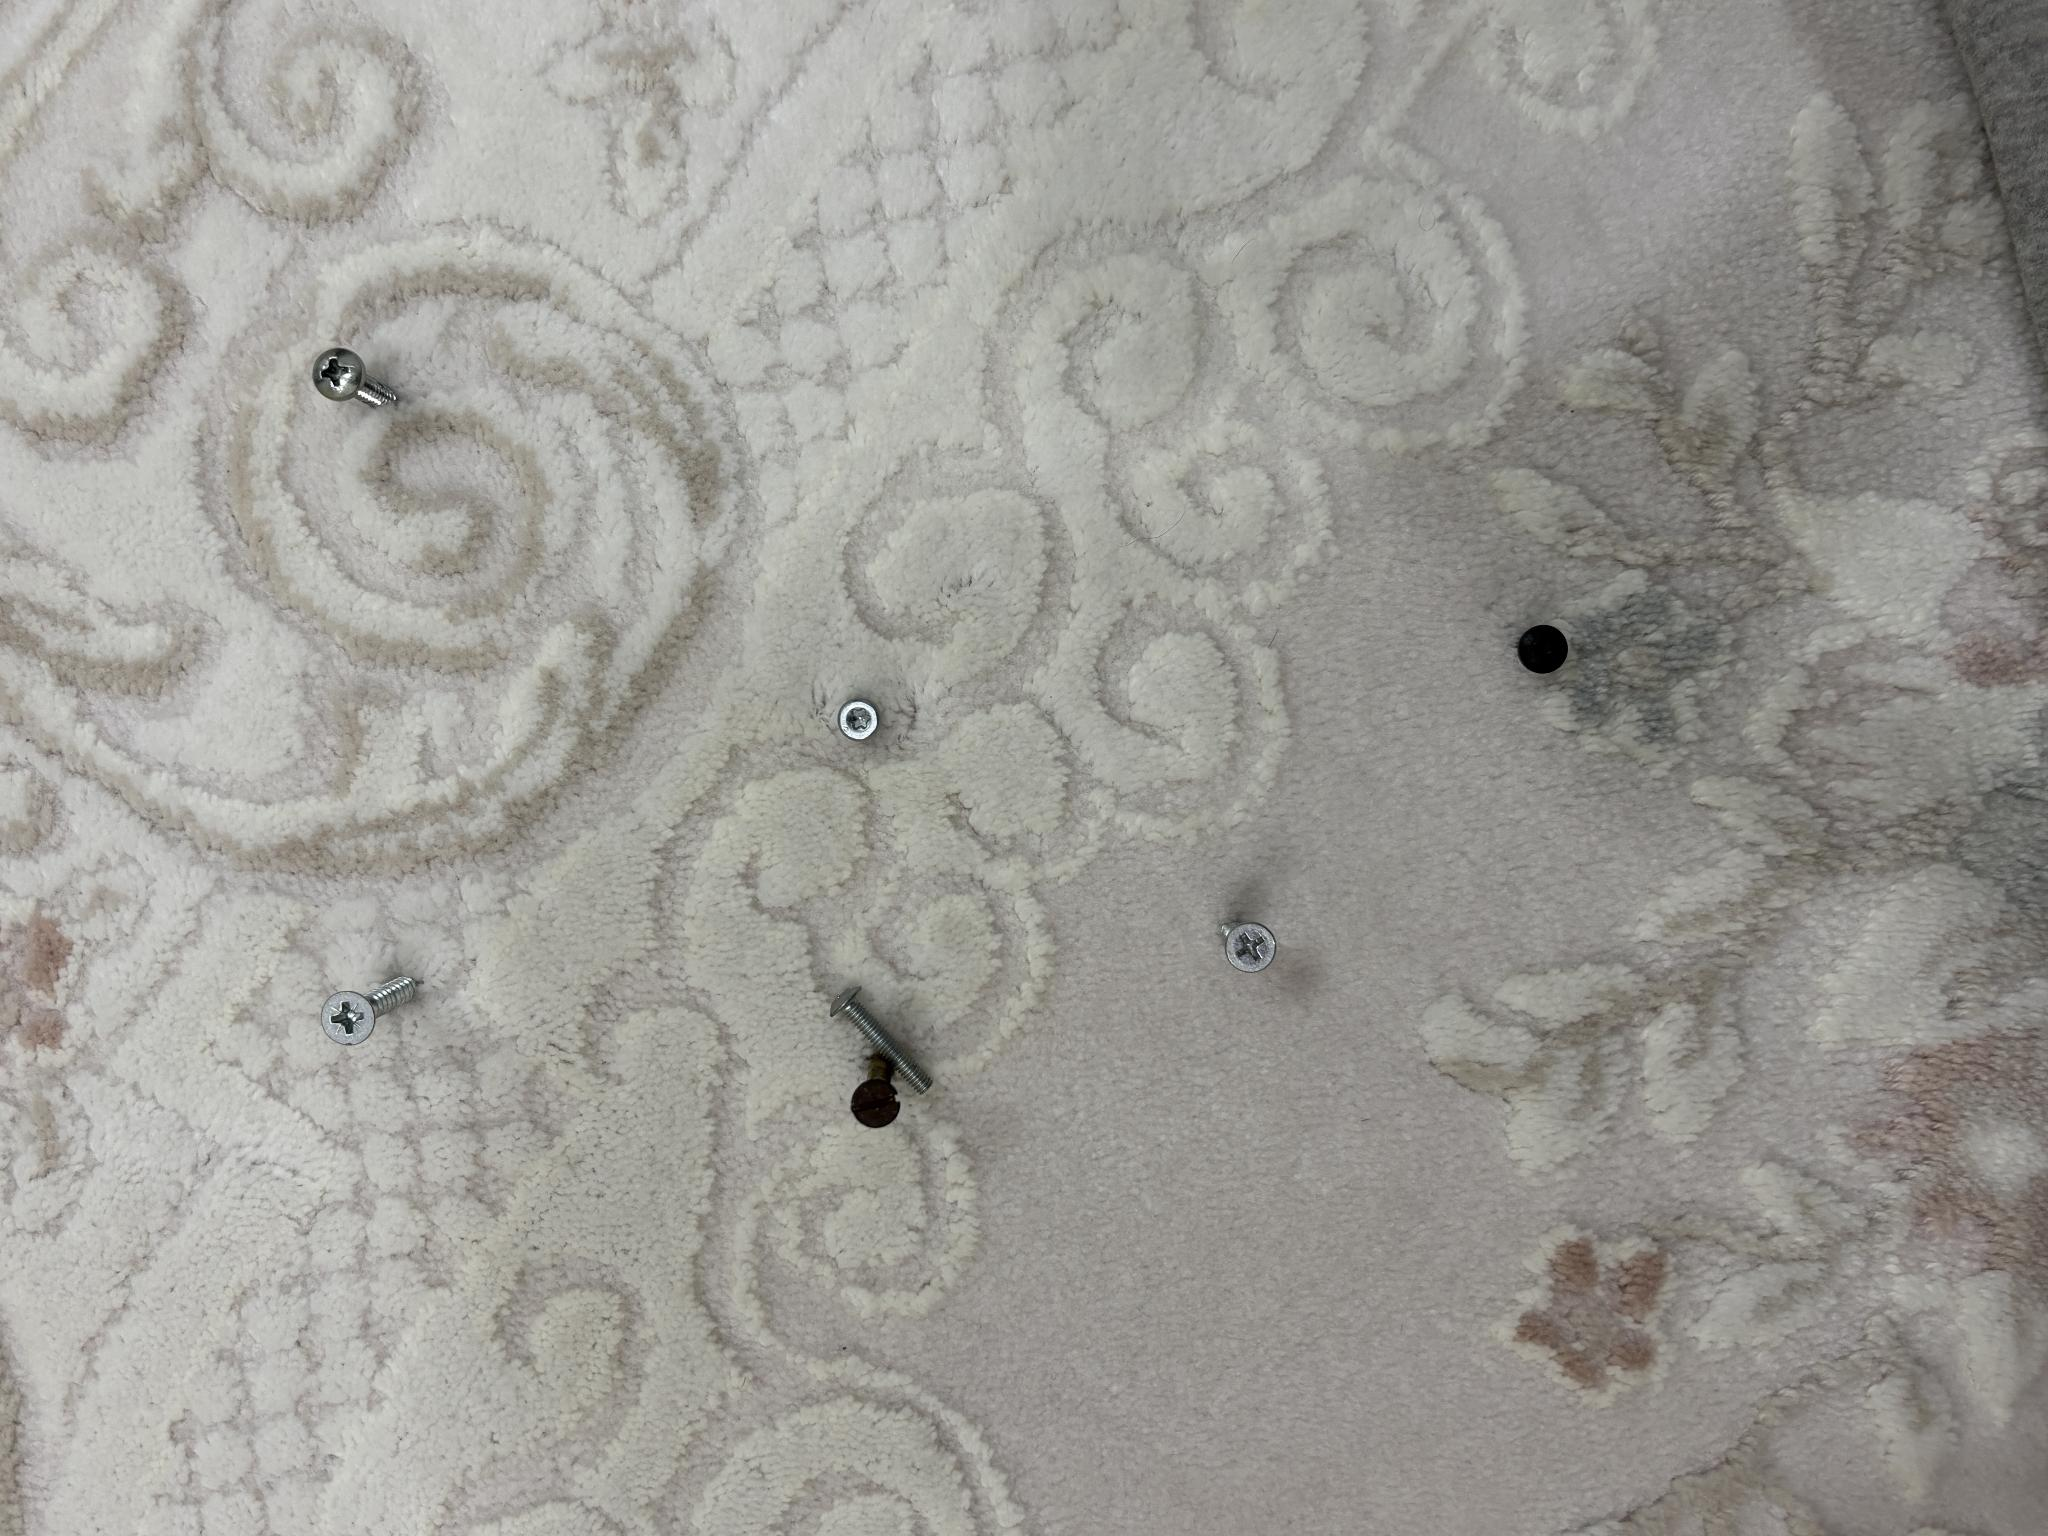H: (795, 837, 835, 879)
PH: (1129, 313, 1188, 399), (563, 1220, 614, 1278)
PZ: (490, 319, 560, 419)
SL: (408, 850, 482, 900)
T: (863, 1518, 910, 1536)
